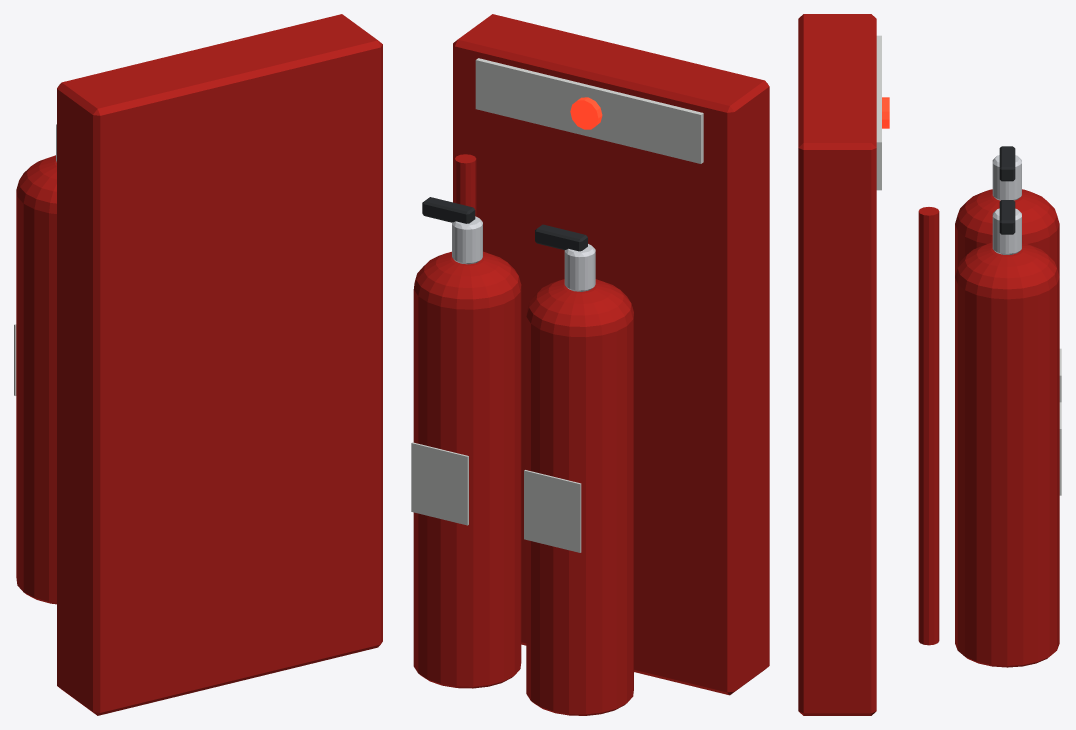
The model's file is fire_suppression.glb.
3 views of the same model, side by side, from view 1: azimuth 30°, elevation 25°; view 2: azimuth 150°, elevation 25°; view 3: azimuth 270°, elevation 25° (orthographic). The views are drawn at different scales.
Visible parts, largest first — view 1: fire_suppression; view 2: fire_suppression; view 3: fire_suppression.
Boxes of the visible parts, bbox=[...] form: fire_suppression: bbox=[14, 14, 382, 715]; fire_suppression: bbox=[411, 14, 769, 715]; fire_suppression: bbox=[798, 14, 1061, 715].
Bounding box in the file's own units: 0.6 × 1.2 × 0.5.
